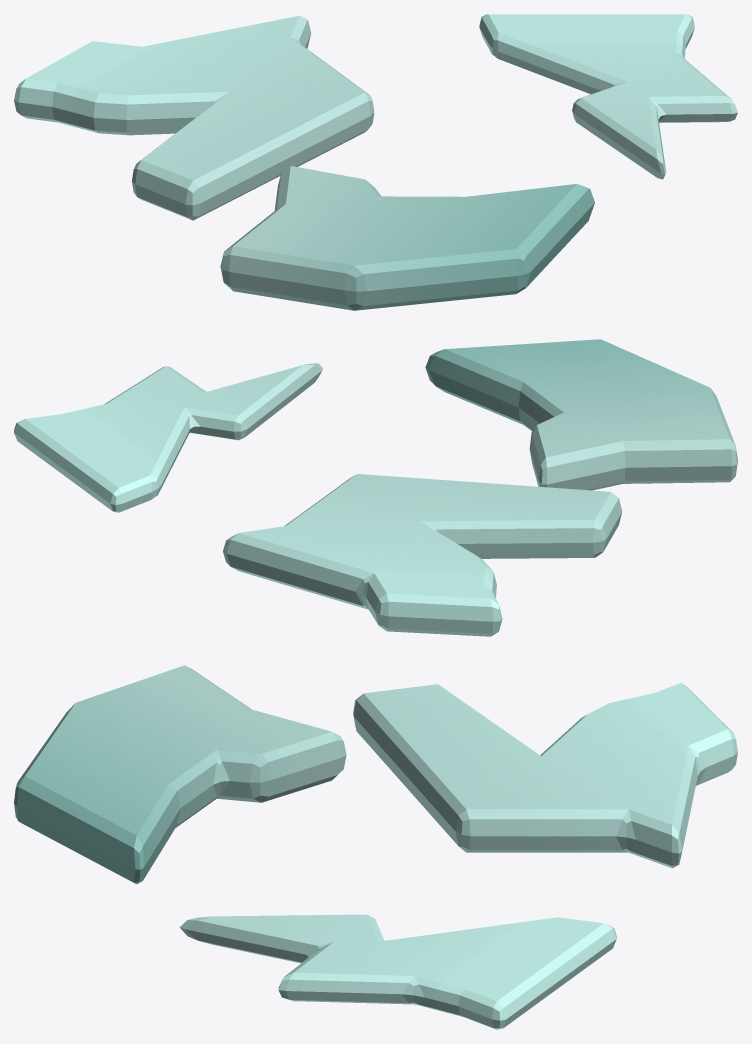
The model's file is Mod_Glassbreak_02.fbx.
The picture shows the model from 3 angles, top to bottom: view 1: azimuth 30°, elevation 25°; view 2: azimuth 150°, elevation 25°; view 3: azimuth 270°, elevation 25°; orthographic projection. The views are drawn at different scales.
Visible parts, largest first — view 1: Mod_Glassbreak_02; view 2: Mod_Glassbreak_02; view 3: Mod_Glassbreak_02.
Boxes of the visible parts, x1,y1,x2,y2 form: Mod_Glassbreak_02: [14, 14, 737, 310]; Mod_Glassbreak_02: [14, 339, 737, 636]; Mod_Glassbreak_02: [14, 665, 737, 1029].
Size of the model in its own units: 76.41 by 5.37 by 71.71.
